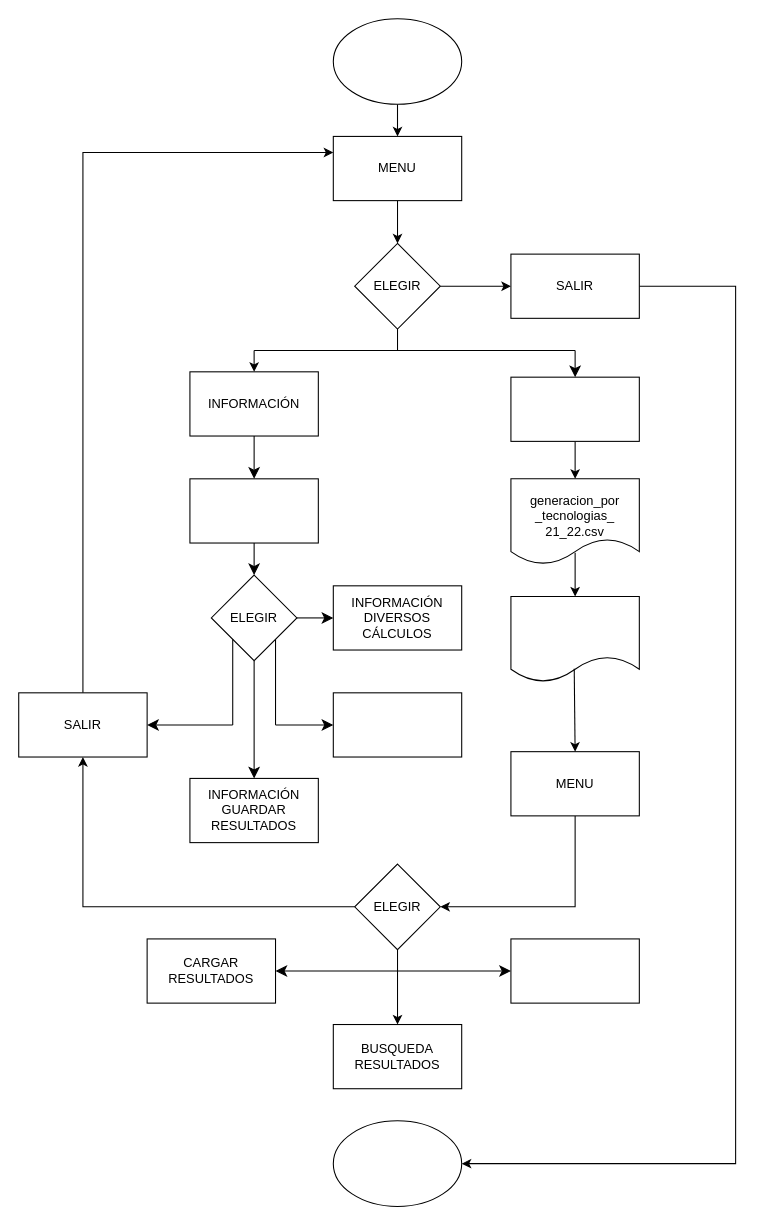
Image size: 763x1225. Some labels were removed from this diagram. Here are the shapes that lost their labels. From the top down, the centre of each, then its label:
At [397,61]: "INICIO".
At [574,408]: "CARGAR FICHERO".
At [253,510]: "MENU INFORMACIÓN".
At [574,638]: "generacion.txt".
At [397,724]: "INFORMACIÓN ORDENAR DATOS".
At [574,970]: "DIVERSOS CÁLCULOS".
At [397,1163]: "FIN".
